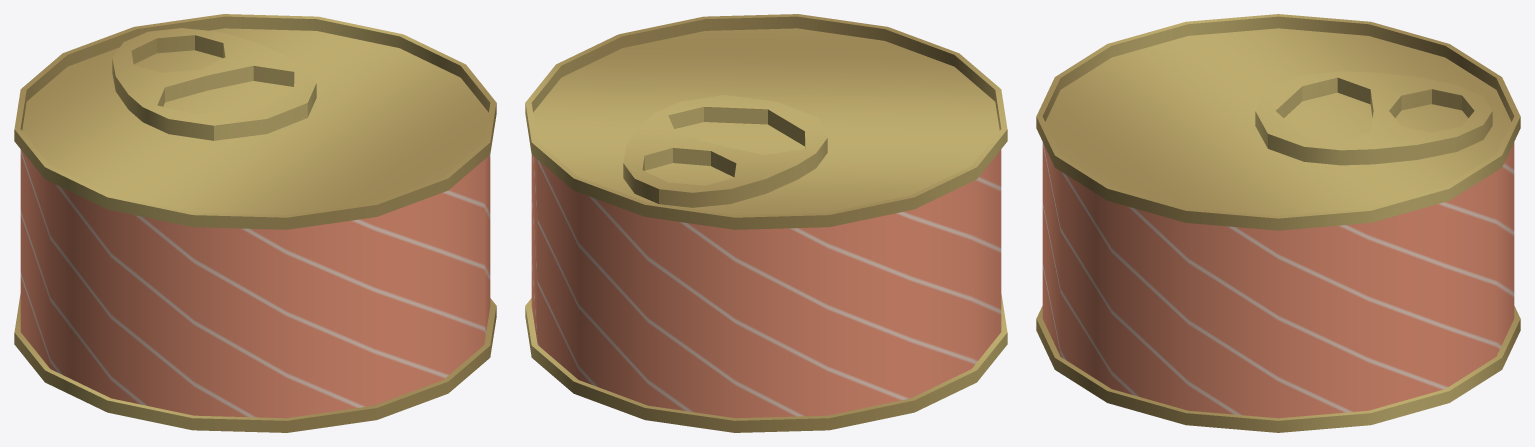
Rendered from item08.fbx.
The picture shows the model from 3 angles, left to right: view 1: azimuth 30°, elevation 25°; view 2: azimuth 150°, elevation 25°; view 3: azimuth 270°, elevation 25°; orthographic projection.
Parts seen in each view (by area): view 1: item08; view 2: item08; view 3: item08.
Part boxes in pixels (x1=…): item08: x1=14, y1=14, x2=496, y2=432; item08: x1=525, y1=14, x2=1007, y2=432; item08: x1=1036, y1=14, x2=1520, y2=432.
Bounding box in the file's own units: 0.5 × 0.2504 × 0.5.
